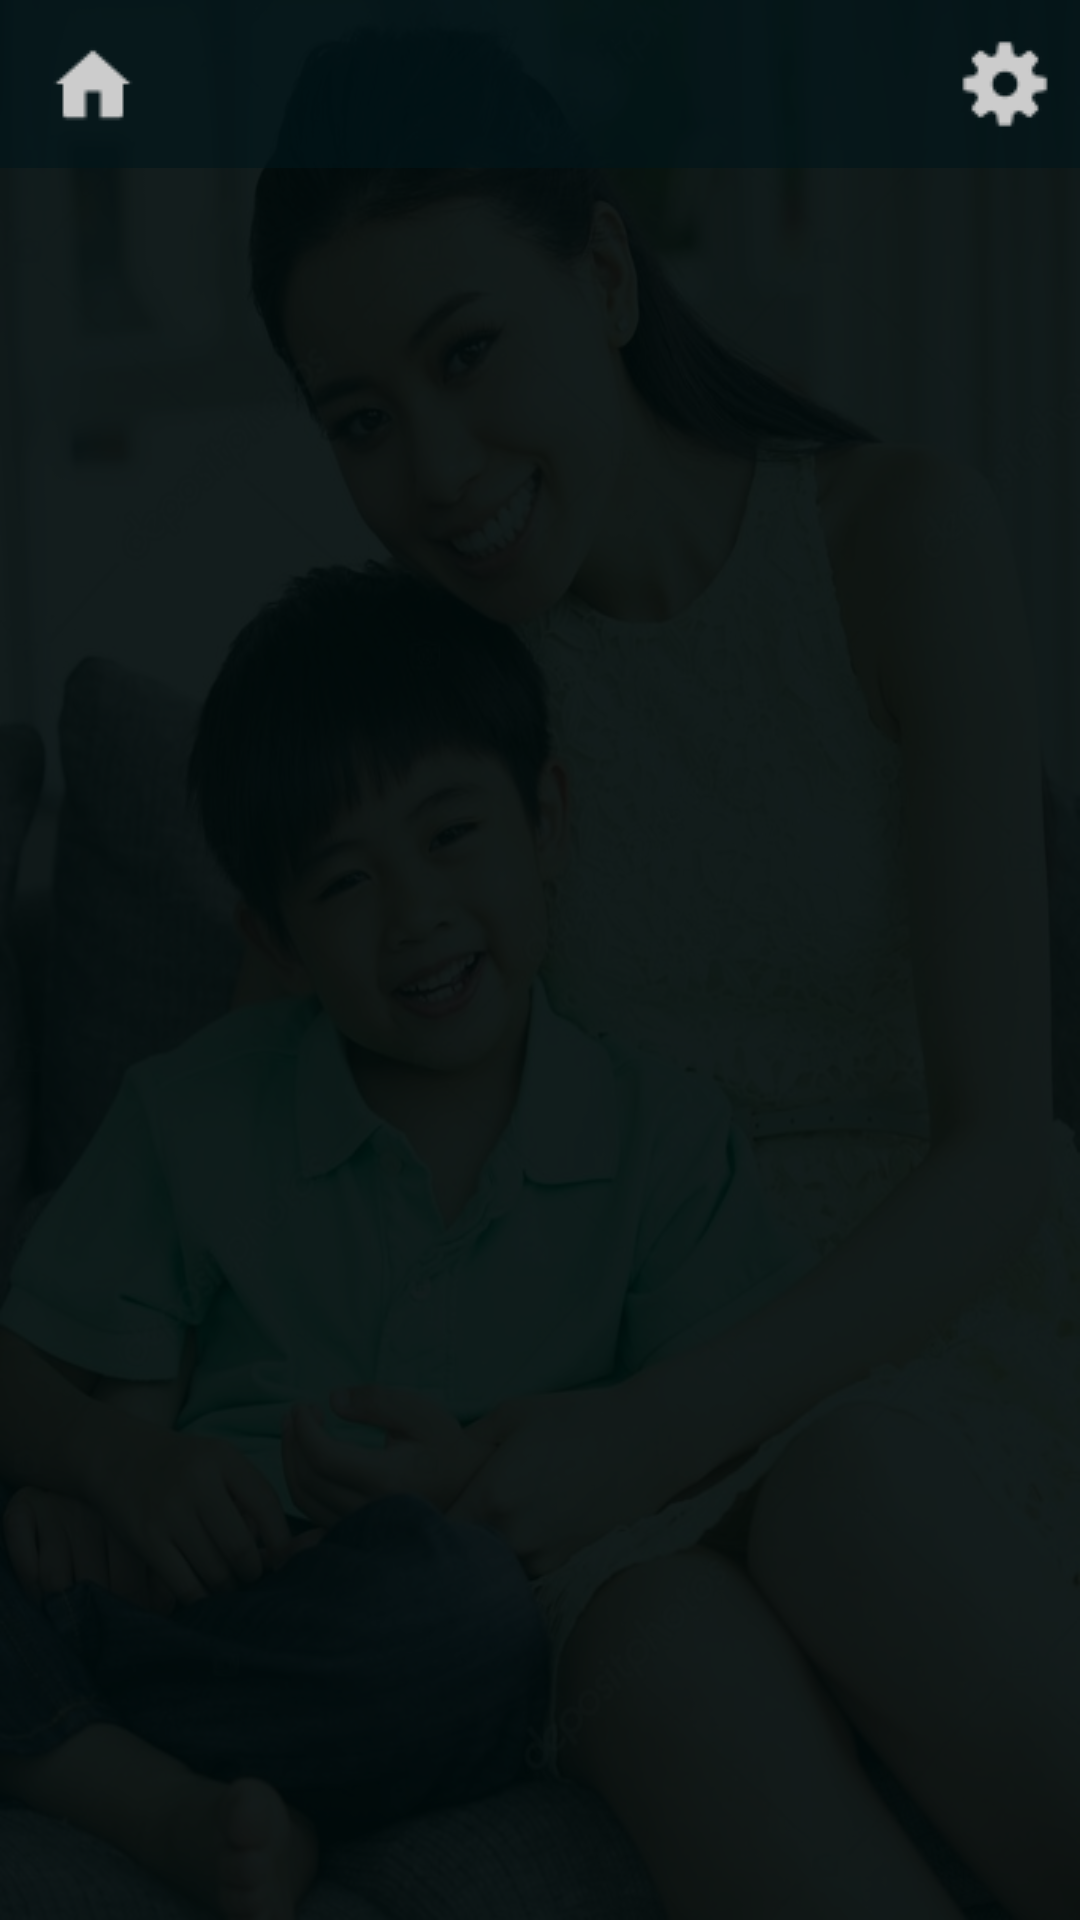

Icons on this 1080 x 1920 Android screen, each with its box as (x1, y1, x2, y2):
home: (55, 50, 130, 120)
settings: (962, 41, 1048, 127)
